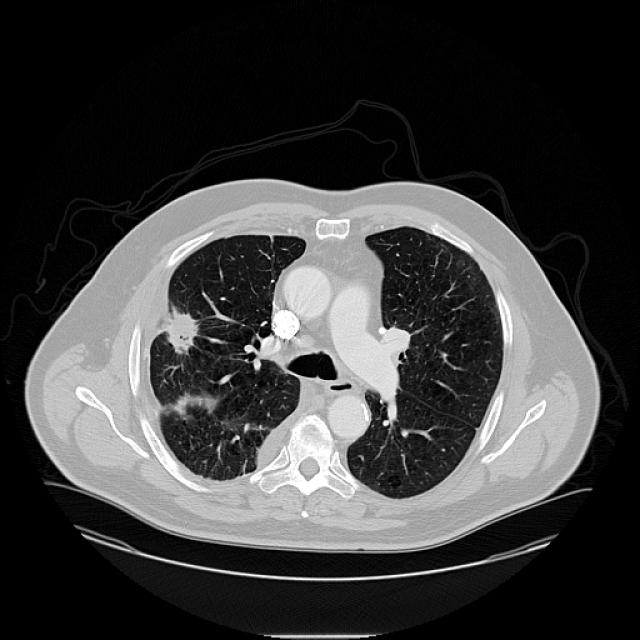nodule: (145, 298, 215, 368)
